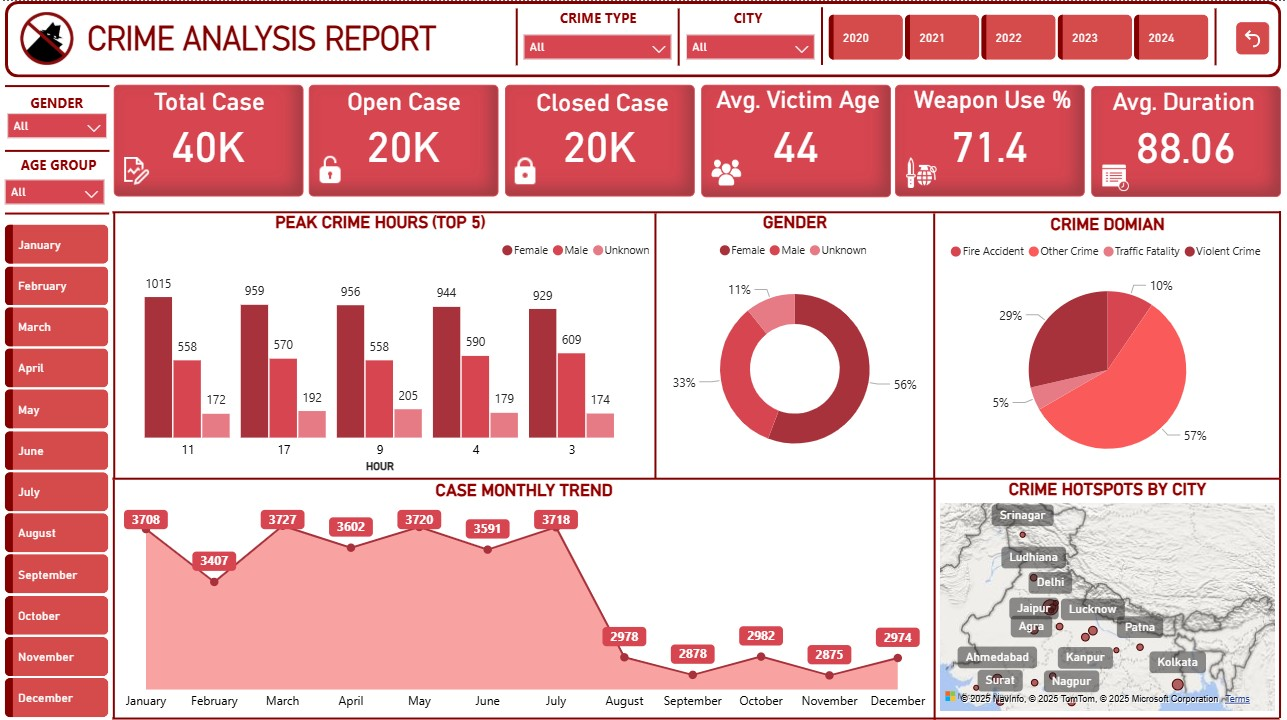

Layout of this report page (visuals, bound fields, positions):
{"tool":"powerbi","page":{"name":"Page 1","canvas":[1280,720],"ordinal":0},"visuals":[{"type":"shape","box":[5,0,1270,76.2],"z":0},{"type":"image","box":[15,3.8,63.8,67.5],"z":1000},{"type":"textbox","box":[78.8,15,365,53.8],"z":2000},{"type":"advancedSlicerVisual","title":"Months","fields":{"Values":["DateTable.MonthName"]},"box":[0,217.5,113.8,502.5],"z":3000},{"type":"advancedSlicerVisual","title":"Months","fields":{"Values":["crime_dataset_india.Year"]},"box":[819.7,8.7,390.8,55],"z":4000,"group":"g4"},{"type":"shape","box":[5,201.8,103.6,20],"z":4000},{"type":"slicer","fields":{"Values":["crime_dataset_india.City"]},"box":[678,26.1,137.5,43.8],"z":5000,"group":"g8"},{"type":"slicer","fields":{"Values":["crime_dataset_india.Crime Description"]},"box":[515.9,26.2,157.4,38.2],"z":5000,"group":"g11"},{"type":"group","id":"g1","title":"Group 6","box":[0,78.7,111,138.8],"z":5000},{"type":"card","fields":{"Values":["crime_dataset_india.Avg_Victim_Age"]},"box":[696.9,82.9,188.7,111.8],"z":5000,"group":"g13"},{"type":"card","fields":{"Values":["crime_dataset_india.Total_Cases"]},"box":[113.2,83.2,188.7,111],"z":5000,"group":"g7"},{"type":"card","fields":{"Values":["crime_dataset_india.Total_Open_Cases"]},"box":[307.7,83.2,189,111.1],"z":5000,"group":"g10"},{"type":"card","fields":{"Values":["crime_dataset_india.Total_Closed_Cases"]},"box":[502.1,83.3,188.7,111],"z":5000,"group":"g12"},{"type":"card","fields":{"Values":["crime_dataset_india.Weapon_Usage_%"]},"box":[890.9,83.5,188.7,111],"z":5000,"group":"g14"},{"type":"card","fields":{"Values":["crime_dataset_india.Avg_Case_Duration"]},"box":[1085.8,84.2,189.1,110.2],"z":5000,"group":"g15"},{"type":"group","id":"g2","title":"Group 5","box":[507.5,6.2,315.7,63.6],"z":6000,"group":"g4"},{"type":"textbox","box":[539.6,7.3,111,22.8],"z":6000,"group":"g11"},{"type":"actionButton","box":[1230.5,21,32.5,32],"z":6000},{"type":"shape","box":[5,143.3,103.9,12.2],"z":6000,"group":"g1"},{"type":"textbox","box":[729.7,7.3,37.9,23.2],"z":7000,"group":"g8"},{"type":"group","id":"g3","title":"Group 1","box":[2.2,93,108.8,50],"z":7000,"group":"g1"},{"type":"shape","box":[645,211.7,13.3,263.3],"z":7000},{"type":"group","id":"g4","title":"Group 7","box":[507.5,6.2,703,63.6],"z":7009,"group":"g6"},{"type":"group","id":"g5","title":"Group 2","box":[0,154.9,108.8,62.6],"z":8000,"group":"g1"},{"type":"shape","box":[922,474.7,16.7,240],"z":8000},{"type":"group","id":"g6","title":"Group 8","box":[507.5,6.2,710,62.5],"z":9000},{"type":"shape","box":[5.2,78.7,103.9,12.6],"z":9000,"group":"g1"},{"type":"group","id":"g7","title":"Group 9","box":[113.2,83.2,188.7,111],"z":9000,"group":"g9"},{"type":"group","id":"g8","title":"Group 3","box":[678,7.3,137.5,62.5],"z":10000,"group":"g2"},{"type":"group","id":"g9","title":"Group 10","box":[113.2,82.2,1162.1,114.1],"z":10000},{"type":"group","id":"g10","title":"Group 9","box":[307.7,83.2,189,111.1],"z":10000,"group":"g9"},{"type":"group","id":"g11","title":"Group 4","box":[515.9,7.3,157.4,57.1],"z":11000,"group":"g2"},{"type":"group","id":"g12","title":"Group 9","box":[502.1,83.3,188.7,111],"z":11000,"group":"g9"},{"type":"slicer","fields":{"Values":["crime_dataset_india.Victim Gender"]},"box":[2.2,105.5,108.8,37.5],"z":11000,"group":"g3"},{"type":"slicer","fields":{"Values":["crime_dataset_india.Victim_Age_Group"]},"box":[0,170.6,108.8,46.9],"z":11000,"group":"g5"},{"type":"donutChart","title":"GENDER","fields":{"Category":["crime_dataset_india.Victim Gender"],"Y":["crime_dataset_india.Total_Cases"]},"box":[651.2,210,278.8,265],"z":11000},{"type":"shape","box":[1203.2,7.5,13.5,56.5],"z":12000,"group":"g6"},{"type":"shape","box":[507.5,7.6,13.4,56.6],"z":12000,"group":"g2"},{"type":"group","id":"g13","title":"Group 9","box":[694.8,82.2,198.3,112.2],"z":12000,"group":"g9"},{"type":"textbox","box":[14.4,154.9,86.8,22],"z":12000,"group":"g5"},{"type":"pieChart","title":"CRIME DOMIAN","fields":{"Category":["crime_dataset_india.Crime Domain"],"Y":["crime_dataset_india.Total_Cases"]},"box":[930,211.2,343.8,265],"z":12000},{"type":"textbox","box":[26,93,61,19],"z":12002,"group":"g3"},{"type":"shape","box":[669.8,6.8,12.3,56.9],"z":13000,"group":"g2"},{"type":"group","id":"g14","title":"Group 9","box":[890.9,82.6,191.7,112.2],"z":13000,"group":"g9"},{"type":"clusteredColumnChart","title":"PEAK CRIME HOURS (TOP 5)","fields":{"Category":["crime_dataset_india.Hour"],"Y":["crime_dataset_india.Total_Cases"],"Series":["crime_dataset_india.Victim Gender"]},"box":[106.2,210,545,258.8],"z":13000},{"type":"shape","box":[811.8,6.2,11.4,57.4],"z":14000,"group":"g2"},{"type":"group","id":"g15","title":"Group 9","box":[1085.8,83.2,189.5,111.1],"z":14000,"group":"g9"},{"type":"lineChart","title":"CASE MONTHLY TREND","fields":{"Category":["DateTable.Date.Variation.Date Hierarchy.Month"],"Y":["crime_dataset_india.Total_Cases"]},"box":[113.3,476.7,816.7,238],"z":14000},{"type":"textbox","box":[694.8,82.2,197.8,39],"z":15000,"group":"g13"},{"type":"textbox","box":[892.9,82.6,188.6,35.4],"z":15000,"group":"g14"},{"type":"textbox","box":[131.9,83.2,152.7,35.6],"z":15000,"group":"g7"},{"type":"textbox","box":[326.4,83.2,152.7,35.6],"z":15000,"group":"g10"},{"type":"textbox","box":[1091.9,83.2,171.2,31.2],"z":15000,"group":"g15"},{"type":"textbox","box":[511.7,84.8,174.5,34.4],"z":15000,"group":"g12"},{"type":"image","box":[113.2,147.4,40,41.1],"z":15000,"group":"g9"},{"type":"map","title":"CRIME HOTSPOTS BY CITY","fields":{"Category":["crime_dataset_india.City"],"Size":["crime_dataset_india.Total_Cases"]},"box":[930.7,475.3,343.3,236],"z":15000},{"type":"image","box":[502.1,147.9,40,43.2],"z":16000,"group":"g9"},{"type":"shape","box":[923.3,211.7,13.3,263.3],"z":16000},{"type":"image","box":[307.9,149.5,39.5,36.8],"z":17000,"group":"g9"},{"type":"shape","box":[106.9,210.3,13.4,265.7],"z":17000},{"type":"image","box":[701.7,145.4,42.9,50.8],"z":18000,"group":"g9"},{"type":"shape","box":[1267.5,209.4,12.5,266.2],"z":18000},{"type":"image","box":[896.3,148.8,40,43.8],"z":19000,"group":"g9"},{"type":"shape","box":[112.5,203.8,1161.2,12.5],"z":19000},{"type":"image","box":[1092,157.9,36.1,36.1],"z":20000,"group":"g9"},{"type":"shape","box":[112.4,469,1161.4,12.9],"z":20000},{"type":"shape","box":[1267.5,475,12.5,238.8],"z":21000},{"type":"shape","box":[107.4,476.1,12.6,237.8],"z":22000},{"type":"shape","box":[112.5,707.5,1161.2,12.5],"z":23000}]}

Visuals, with their boxes in screenshot pixels (x1, y1, x2, y2), scaled from the page's 1280x720 canvas onto the 1287x720 screenshot:
shape: box=[5, 0, 1282, 76]
image: box=[15, 4, 79, 71]
textbox: box=[79, 15, 446, 69]
"Months" advancedSlicerVisual: box=[0, 218, 114, 719]
"Months" advancedSlicerVisual: box=[824, 9, 1217, 64]
shape: box=[5, 202, 109, 222]
slicer - crime_dataset_india.City: box=[682, 26, 820, 70]
slicer - crime_dataset_india.Crime Description: box=[519, 26, 677, 64]
"Group 6" group: box=[0, 79, 112, 218]
card - crime_dataset_india.Avg_Victim_Age: box=[701, 83, 890, 195]
card - crime_dataset_india.Total_Cases: box=[114, 83, 304, 194]
card - crime_dataset_india.Total_Open_Cases: box=[309, 83, 499, 194]
card - crime_dataset_india.Total_Closed_Cases: box=[505, 83, 695, 194]
card - crime_dataset_india.Weapon_Usage_%: box=[896, 84, 1086, 194]
card - crime_dataset_india.Avg_Case_Duration: box=[1092, 84, 1282, 194]
"Group 5" group: box=[510, 6, 828, 70]
textbox: box=[543, 7, 654, 30]
actionButton: box=[1237, 21, 1270, 53]
shape: box=[5, 143, 109, 156]
textbox: box=[734, 7, 772, 30]
"Group 1" group: box=[2, 93, 112, 143]
shape: box=[649, 212, 662, 475]
"Group 7" group: box=[510, 6, 1217, 70]
"Group 2" group: box=[0, 155, 109, 218]
shape: box=[927, 475, 944, 715]
"Group 8" group: box=[510, 6, 1224, 69]
shape: box=[5, 79, 110, 91]
"Group 9" group: box=[114, 83, 304, 194]
"Group 3" group: box=[682, 7, 820, 70]
"Group 10" group: box=[114, 82, 1282, 196]
"Group 9" group: box=[309, 83, 499, 194]
"Group 4" group: box=[519, 7, 677, 64]
"Group 9" group: box=[505, 83, 695, 194]
slicer - crime_dataset_india.Victim Gender: box=[2, 106, 112, 143]
slicer - crime_dataset_india.Victim_Age_Group: box=[0, 171, 109, 218]
"GENDER" donutChart: box=[655, 210, 935, 475]
shape: box=[1210, 8, 1223, 64]
shape: box=[510, 8, 524, 64]
"Group 9" group: box=[699, 82, 898, 194]
textbox: box=[14, 155, 102, 177]
"CRIME DOMIAN" pieChart: box=[935, 211, 1281, 476]
textbox: box=[26, 93, 87, 112]
shape: box=[673, 7, 686, 64]
"Group 9" group: box=[896, 83, 1089, 195]
"PEAK CRIME HOURS (TOP 5)" clusteredColumnChart: box=[107, 210, 655, 469]
shape: box=[816, 6, 828, 64]
"Group 9" group: box=[1092, 83, 1282, 194]
"CASE MONTHLY TREND" lineChart: box=[114, 477, 935, 715]
textbox: box=[699, 82, 897, 121]
textbox: box=[898, 83, 1087, 118]
textbox: box=[133, 83, 286, 119]
textbox: box=[328, 83, 482, 119]
textbox: box=[1098, 83, 1270, 114]
textbox: box=[514, 85, 690, 119]
image: box=[114, 147, 154, 188]
"CRIME HOTSPOTS BY CITY" map: box=[936, 475, 1281, 711]
image: box=[505, 148, 545, 191]
shape: box=[928, 212, 942, 475]
image: box=[310, 150, 349, 186]
shape: box=[107, 210, 121, 476]
image: box=[706, 145, 749, 196]
shape: box=[1274, 209, 1286, 476]
image: box=[901, 149, 941, 193]
shape: box=[113, 204, 1281, 216]
image: box=[1098, 158, 1134, 194]
shape: box=[113, 469, 1281, 482]
shape: box=[1274, 475, 1286, 714]
shape: box=[108, 476, 121, 714]
shape: box=[113, 708, 1281, 719]
